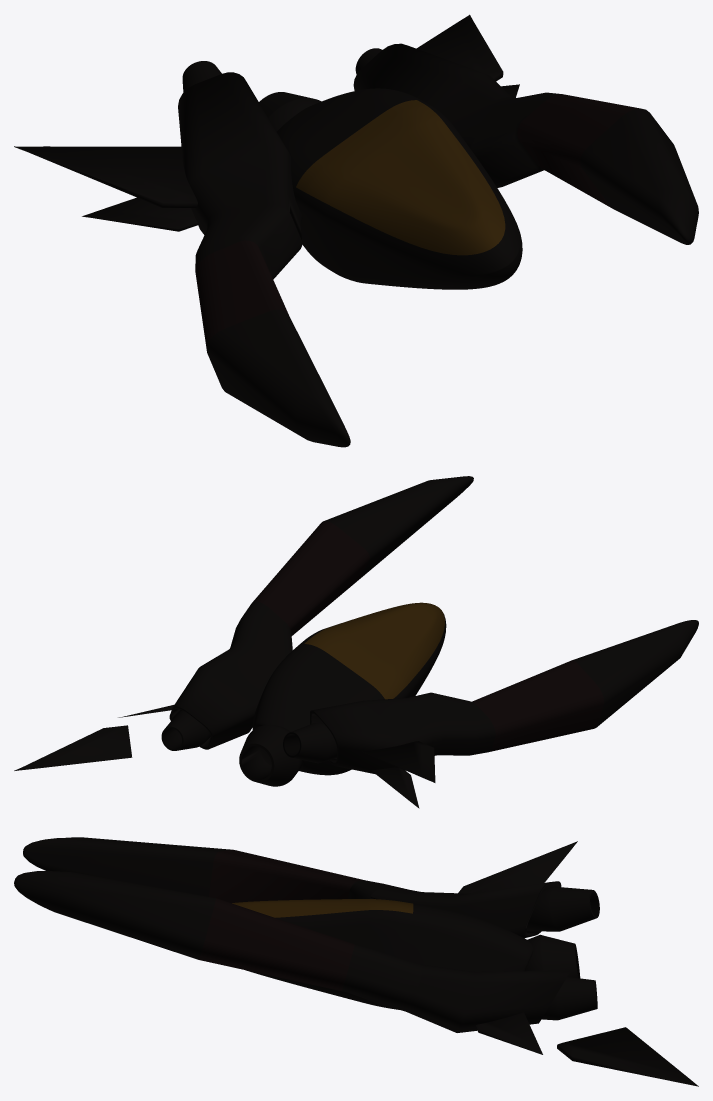
The model's file is spaceshipmodelbrokenold.fbx.
The picture shows the model from 3 angles, top to bottom: view 1: azimuth 30°, elevation 25°; view 2: azimuth 150°, elevation 25°; view 3: azimuth 270°, elevation 25°; orthographic projection. The views are drawn at different scales.
Parts seen in each view (by area): view 1: Cube.001, Cube, Cube.002, Cube.003, Cylinder, Cylinder.001; view 2: Cube.001, Cube, Cube.002, Cylinder.001, Cylinder, Cube.003; view 3: Cube.001, Cube, Cube.002, Cylinder.001, Cylinder, Cube.003.
Part boxes in pixels (x1,y1,x2,y2): Cube.001: [178, 43, 698, 447]; Cube: [277, 88, 522, 289]; Cube.002: [14, 14, 503, 207]; Cube.003: [82, 84, 519, 231]; Cylinder: [259, 92, 321, 131]; Cylinder.001: [182, 48, 381, 92]; Cube.001: [169, 476, 698, 774]; Cube: [252, 602, 446, 775]; Cube.002: [14, 725, 435, 782]; Cylinder.001: [161, 710, 336, 763]; Cylinder: [239, 725, 302, 786]; Cube.003: [118, 705, 419, 808]; Cube.001: [14, 837, 570, 1032]; Cube: [232, 899, 533, 1009]; Cube.002: [458, 841, 698, 1086]; Cylinder.001: [526, 886, 599, 1020]; Cylinder: [525, 934, 580, 978]; Cube.003: [475, 1012, 542, 1054].
Bounding box in the file's own units: 766 × 281 × 1022.
